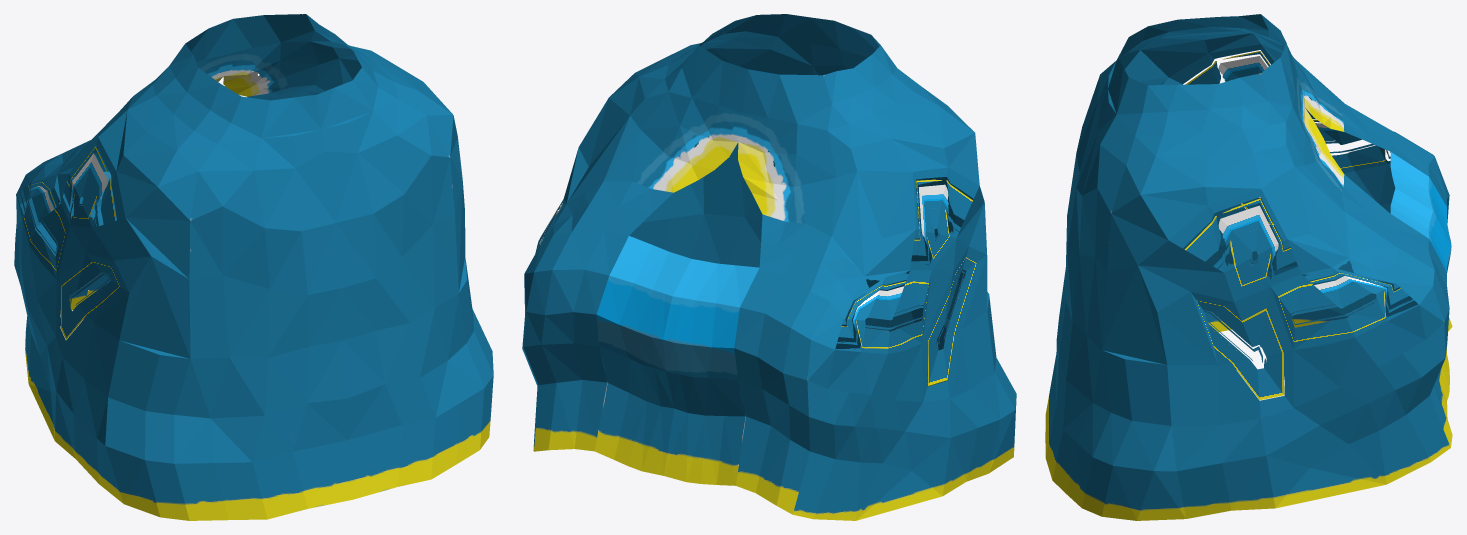
Rendered from upperClothing.obj.
3 views of the same model, side by side, from view 1: azimuth 30°, elevation 25°; view 2: azimuth 150°, elevation 25°; view 3: azimuth 270°, elevation 25° (orthographic). The views are drawn at different scales.
Visible parts, largest first — view 1: 上着; view 2: 上着; view 3: 上着.
Part boxes in pixels (<box>): 上着: <box>14,14,493,520</box>; 上着: <box>522,14,1016,520</box>; 上着: <box>1045,14,1452,520</box>.
Size of the model in its own units: 0.3202 by 0.3123 by 0.2902.
Materials: 1 (1 with a texture image).
